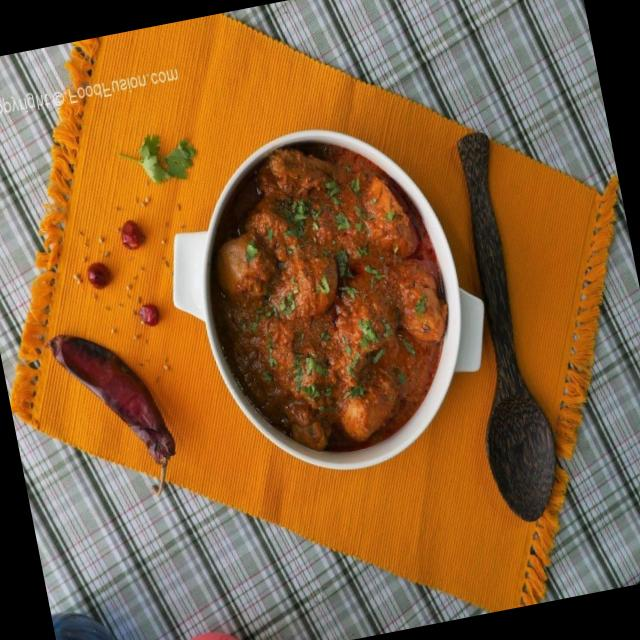chicken: (191, 130, 472, 468)
